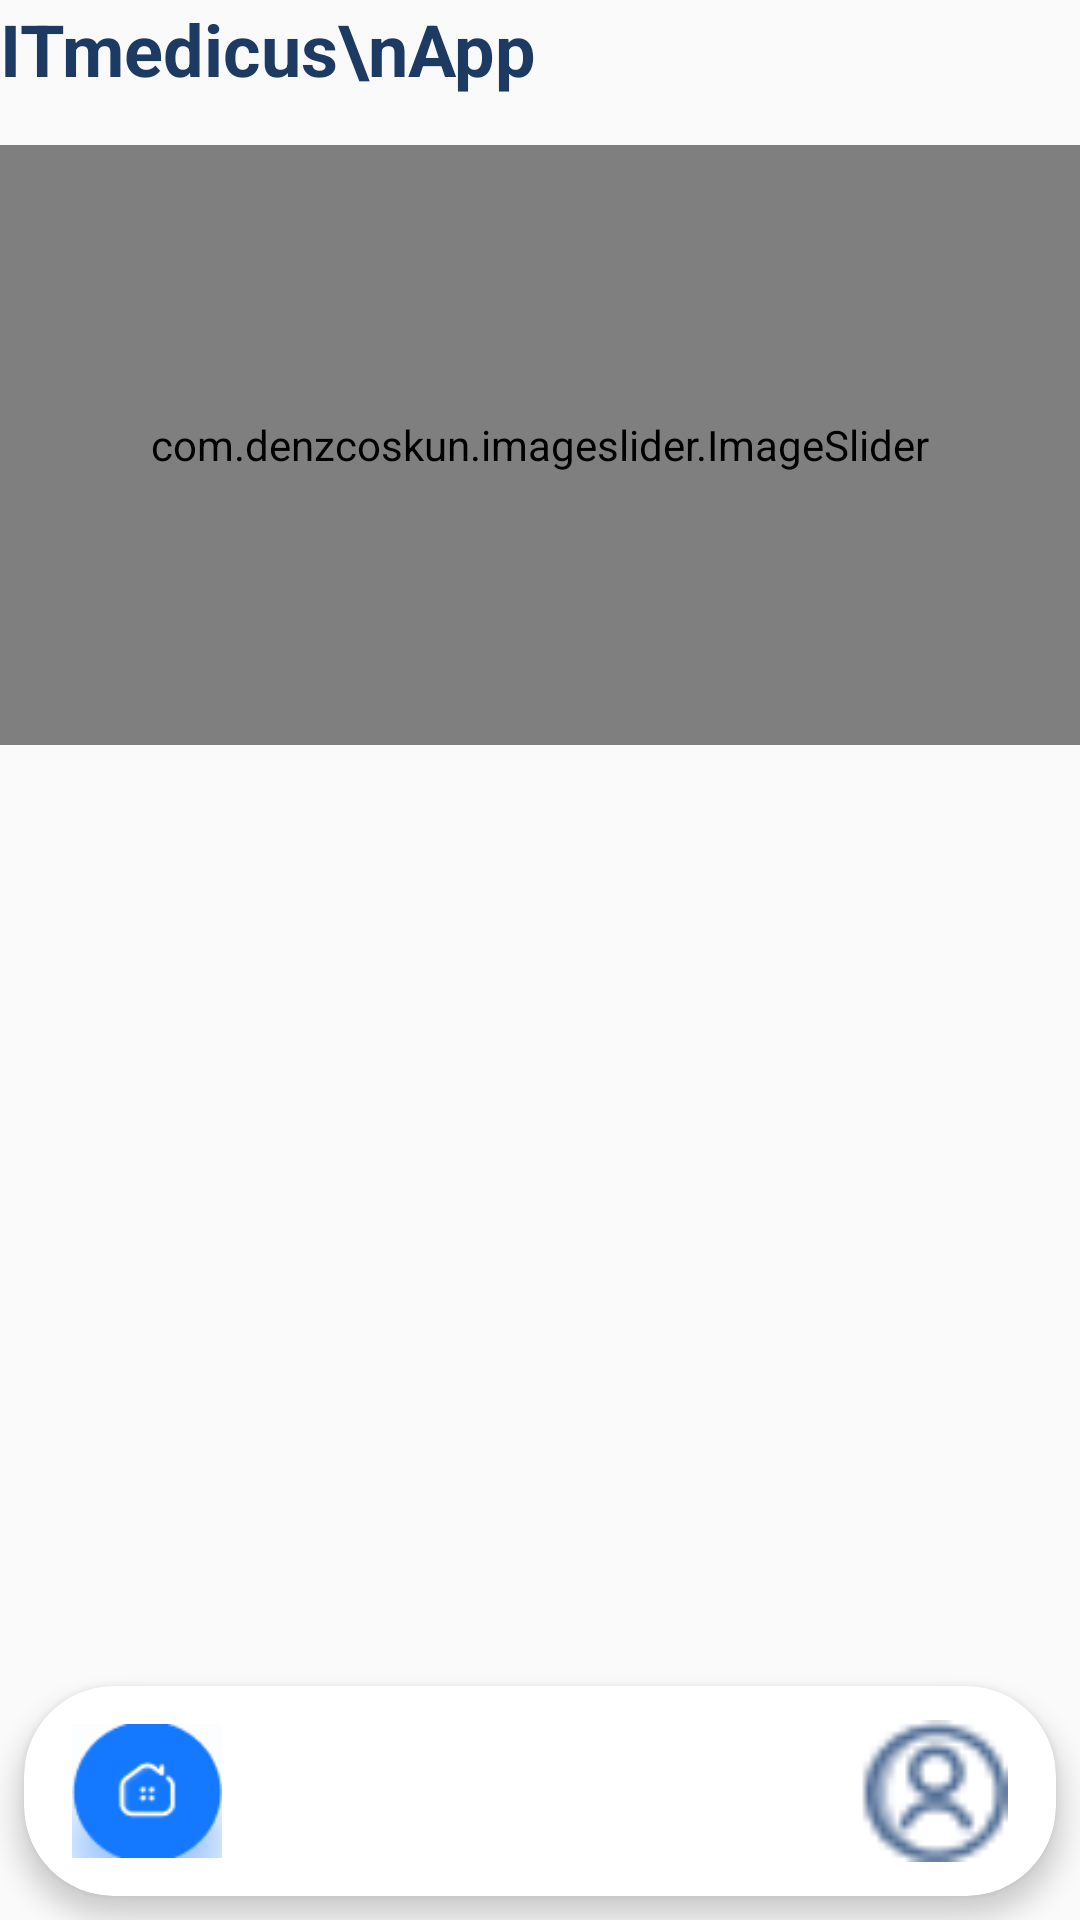

Locate icon controls on the screen. Image size 1080×1920, boxes as bbox=[x1, y1, x2, y2].
home: bbox=[72, 1724, 222, 1858]
user profile: bbox=[863, 1720, 1008, 1862]
